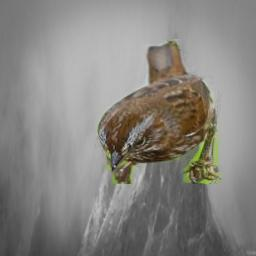Sparrow: (95, 39, 225, 184)
